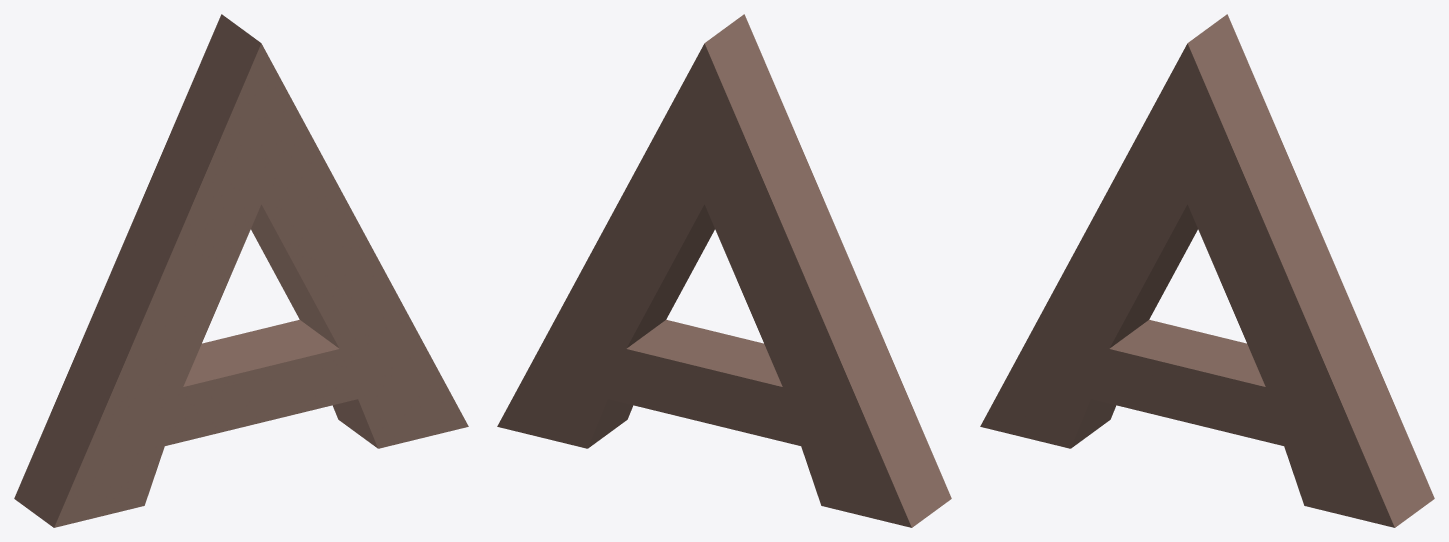
File: seesaw_a.fbx
The picture shows the model from 3 angles, left to right: view 1: azimuth 30°, elevation 25°; view 2: azimuth 150°, elevation 25°; view 3: azimuth 330°, elevation 25°; orthographic projection.
Parts seen in each view (by area): view 1: polymsh_detached; view 2: polymsh_detached; view 3: polymsh_detached.
Boxes of the visible parts, x1,y1,x2,y2 form: polymsh_detached: (14, 14, 468, 527); polymsh_detached: (497, 14, 951, 527); polymsh_detached: (980, 14, 1434, 527).
Size of the model in its own units: 11.35 by 11.35 by 1.89.
